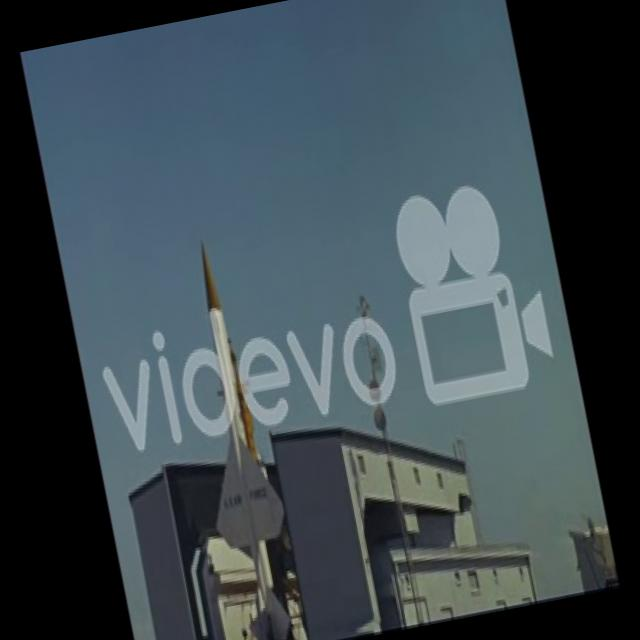rocket: (168, 230, 302, 629)
